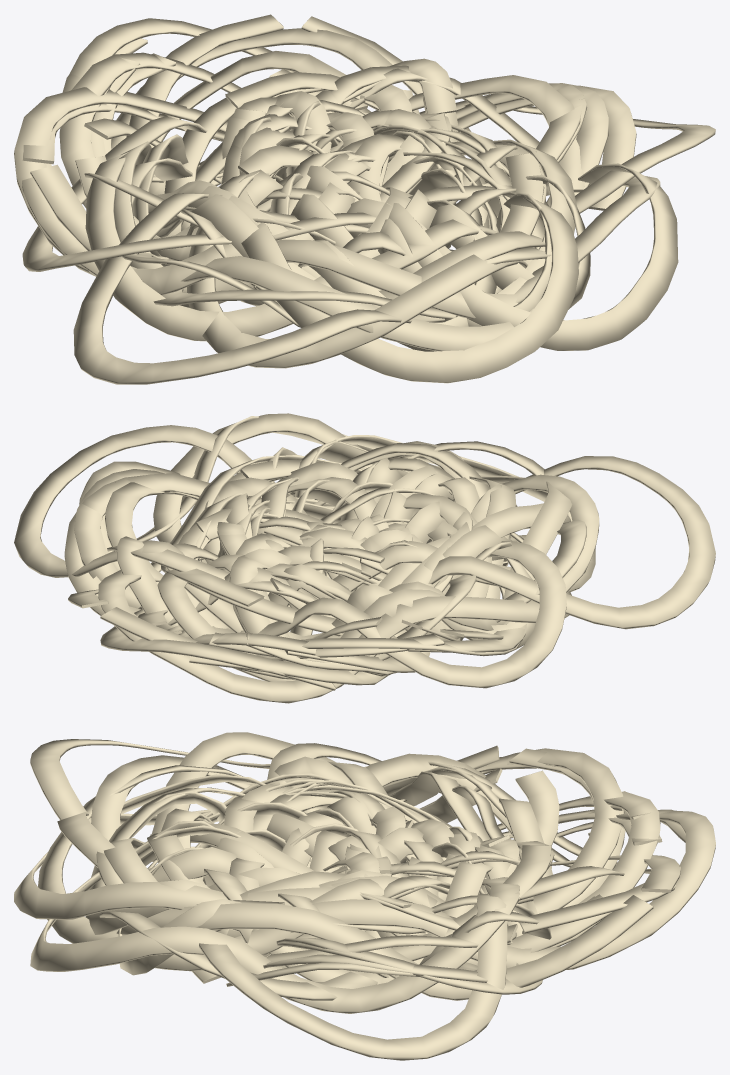
File: FOOD_pho_noodles_flat_rice_OPT.glb
The picture shows the model from 3 angles, top to bottom: view 1: azimuth 30°, elevation 25°; view 2: azimuth 150°, elevation 25°; view 3: azimuth 270°, elevation 25°; orthographic projection. The views are drawn at different scales.
Parts seen in each view (by area): view 1: NoodlesLayer; view 2: NoodlesLayer; view 3: NoodlesLayer.
Part boxes in pixels (<box>): NoodlesLayer: <box>14,14,715,384</box>; NoodlesLayer: <box>14,413,715,703</box>; NoodlesLayer: <box>14,732,715,1060</box>.
Size of the model in its own units: 0.41 by 0.0558 by 0.3865.
